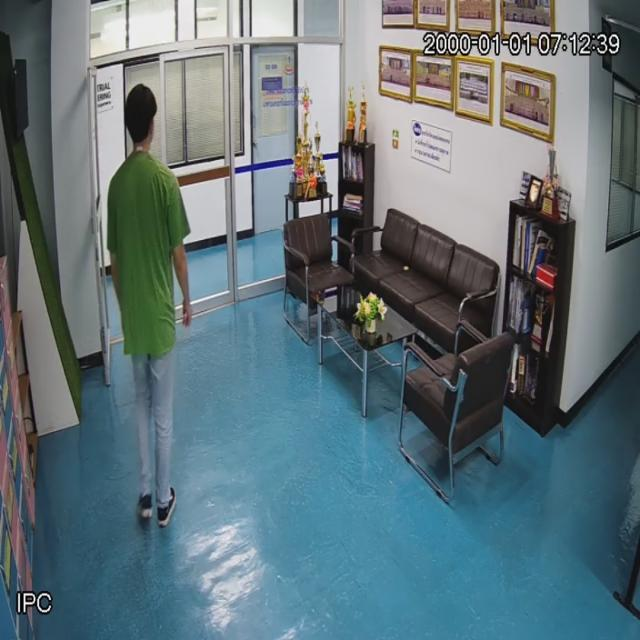normal: (107, 82, 190, 522)
